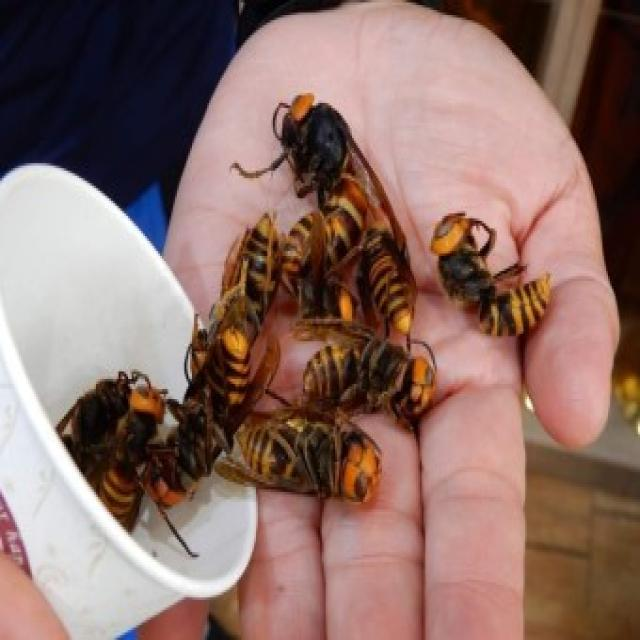Wasp: (152, 329, 256, 506), (435, 208, 556, 344), (233, 399, 381, 503), (273, 90, 365, 247), (302, 325, 439, 416)
